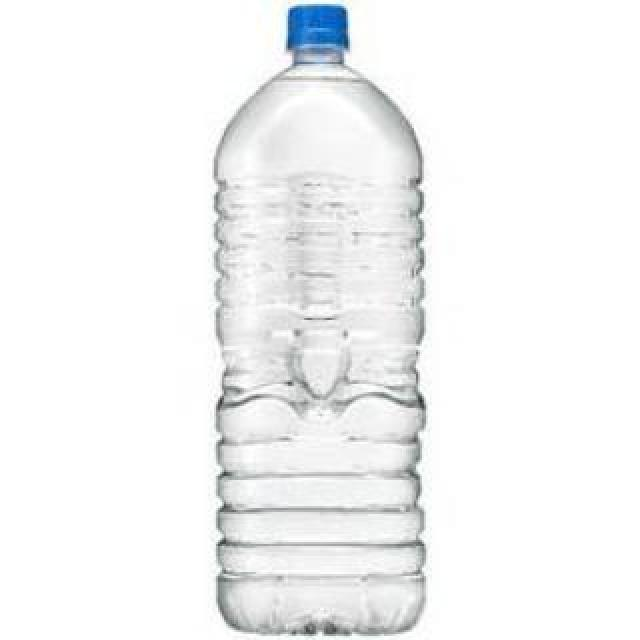Pet_Bottle: (212, 6, 428, 640)
